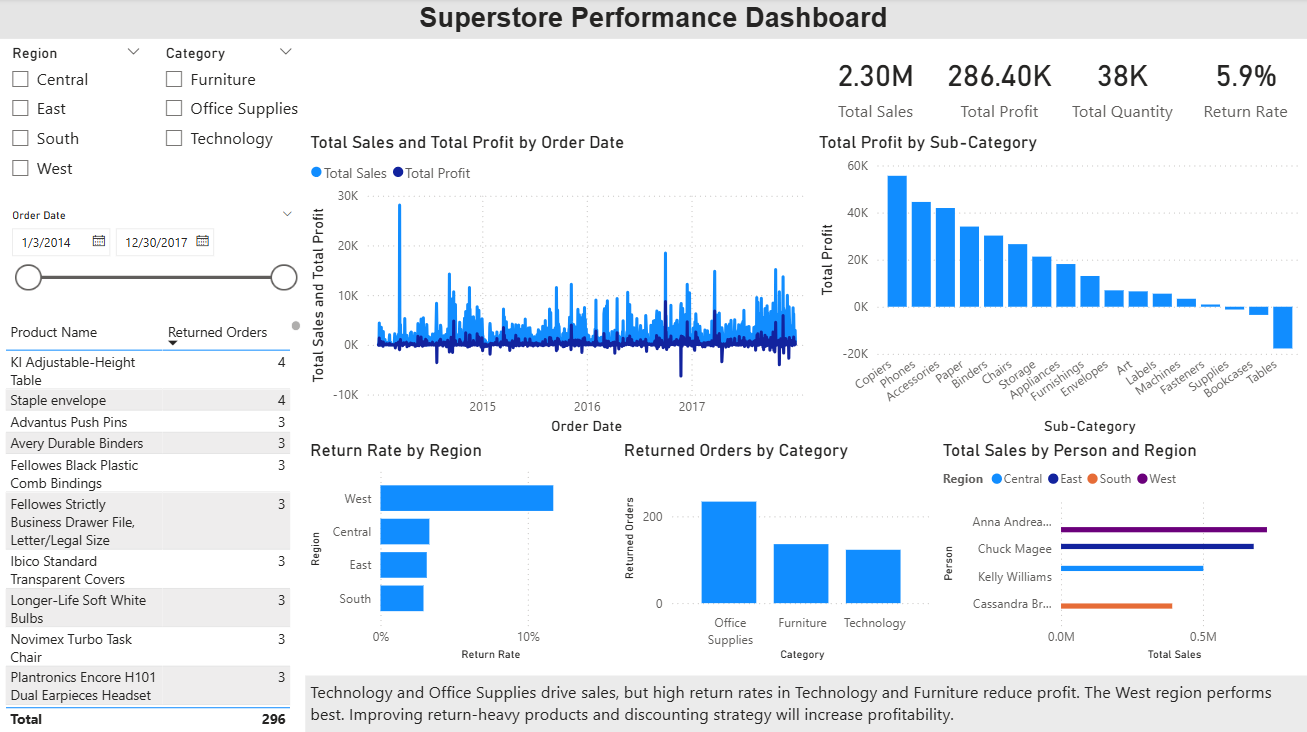

What the dashboard file says about the page in this screenshot:
{"tool":"powerbi","page":{"name":"Page 1","canvas":[1280,720],"ordinal":0},"visuals":[{"type":"card","fields":{"Values":["Orders.Return Rate"]},"box":[1159.2,40.3,121,90.1],"z":0},{"type":"card","fields":{"Values":["Orders.Total Quantity"]},"box":[1039.5,40.3,119.7,90.1],"z":1000},{"type":"card","fields":{"Values":["Orders.Total Profit"]},"box":[918.5,40.3,121,90.1],"z":2000},{"type":"card","fields":{"Values":["Orders.Total Sales"]},"box":[797.5,40.3,121,90.1],"z":3000},{"type":"lineChart","fields":{"Y":["Orders.Total Sales","Orders.Total Profit"],"Category":["Orders.Order Date"]},"box":[299.6,130.8,497.7,300.8],"z":4000},{"type":"clusteredColumnChart","fields":{"Category":["Orders.Sub-Category"],"Y":["Orders.Total Profit"]},"box":[797.5,130.4,482.8,301.2],"z":5000},{"type":"clusteredColumnChart","fields":{"Category":["Orders.Category"],"Y":["Returns.Returned Orders"]},"box":[606.5,431.7,311.8,221.3],"z":6000},{"type":"clusteredBarChart","fields":{"Y":["Orders.Return Rate"],"Category":["Orders.Region"]},"box":[299.6,431.7,306.9,221.3],"z":7000},{"type":"tableEx","fields":{"Values":["Orders.Product Name","Returns.Returned Orders"]},"box":[0,310.7,299.9,408.8],"z":8000},{"type":"clusteredBarChart","fields":{"Category":["People.Person"],"Series":["Orders.Region"],"Y":["Orders.Total Sales"]},"box":[918.3,431.7,362,221.3],"z":9000},{"type":"slicer","fields":{"Values":["People.Region"]},"box":[0,40.3,150.6,160],"z":10000},{"type":"slicer","fields":{"Values":["Orders.Category"]},"box":[150.6,40.3,149.3,160],"z":11000},{"type":"slicer","fields":{"Values":["Orders.Order Date"]},"box":[0,200.5,299.6,110.1],"z":12000},{"type":"textbox","box":[299.6,662.8,980.7,56.3],"z":13000},{"type":"textbox","box":[0,0,1280.3,40.3],"z":14000}]}

Visuals, with their boxes in screenshot pixels (x1, y1, x2, y2), scaled from the page's 1280x720 canvas onto the 1307x732 screenshot:
card - Orders.Return Rate: left=1184, top=41, right=1306, bottom=133
card - Orders.Total Quantity: left=1061, top=41, right=1184, bottom=133
card - Orders.Total Profit: left=938, top=41, right=1061, bottom=133
card - Orders.Total Sales: left=814, top=41, right=938, bottom=133
lineChart - Orders.Total Sales x Orders.Total Profit: left=306, top=133, right=814, bottom=439
clusteredColumnChart - Orders.Sub-Category x Orders.Total Profit: left=814, top=133, right=1306, bottom=439
clusteredColumnChart - Orders.Category x Returns.Returned Orders: left=619, top=439, right=938, bottom=664
clusteredBarChart - Orders.Return Rate x Orders.Region: left=306, top=439, right=619, bottom=664
tableEx - Orders.Product Name x Returns.Returned Orders: left=0, top=316, right=306, bottom=731
clusteredBarChart - People.Person x Orders.Region: left=938, top=439, right=1306, bottom=664
slicer - People.Region: left=0, top=41, right=154, bottom=204
slicer - Orders.Category: left=154, top=41, right=306, bottom=204
slicer - Orders.Order Date: left=0, top=204, right=306, bottom=316
textbox: left=306, top=674, right=1306, bottom=731
textbox: left=0, top=0, right=1306, bottom=41
